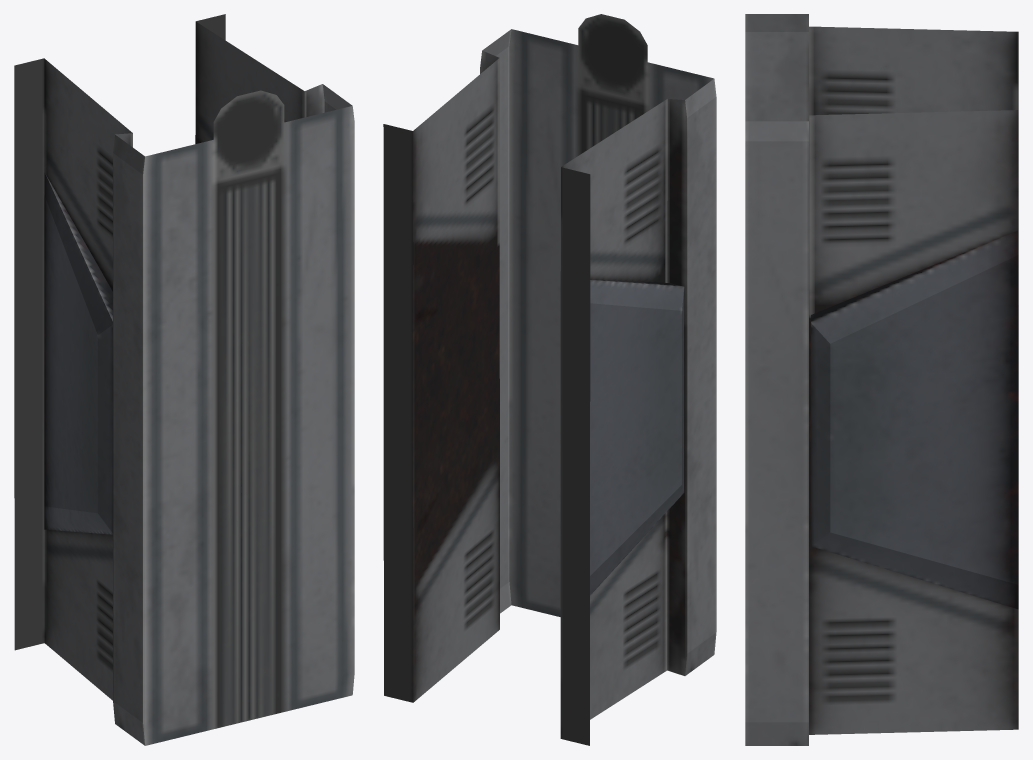
Rendered from VR_DoorSide.fbx.
The picture shows the model from 3 angles, left to right: view 1: azimuth 30°, elevation 25°; view 2: azimuth 150°, elevation 25°; view 3: azimuth 270°, elevation 25°; orthographic projection. The views are drawn at different scales.
Parts seen in each view (by area): view 1: Plane.070; view 2: Plane.070; view 3: Plane.070.
Boxes of the visible parts, x1,y1,x2,y2 form: Plane.070: (14, 14, 354, 745); Plane.070: (383, 14, 716, 745); Plane.070: (745, 14, 1018, 745).
Bounding box in the file's own units: 0.9917 × 2.68 × 1.
